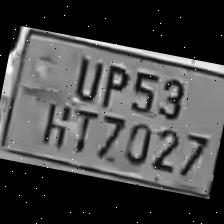0: (117, 113, 155, 168)
2: (146, 122, 184, 176)
3: (152, 70, 188, 122)
5: (123, 65, 161, 114)
7: (88, 107, 127, 162), (174, 128, 209, 180)
H: (36, 96, 72, 150)
P: (95, 58, 133, 112)
T: (62, 104, 96, 154)
U: (66, 51, 106, 106)
